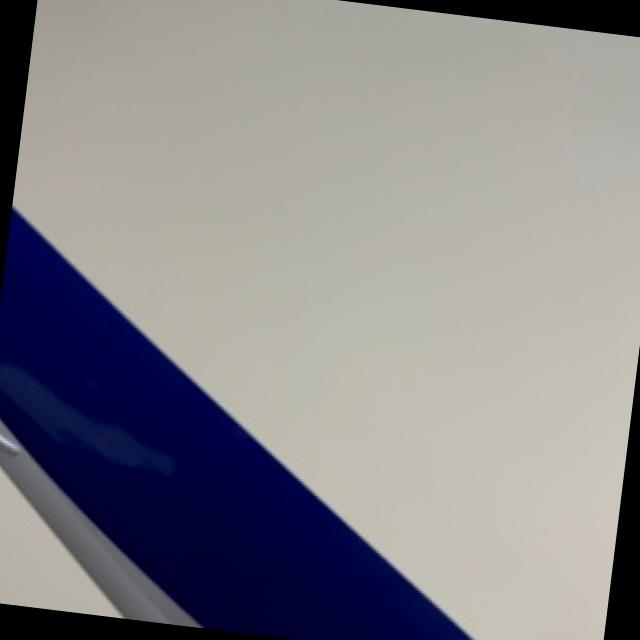healthy: (0, 209, 471, 640), (0, 470, 114, 615)
